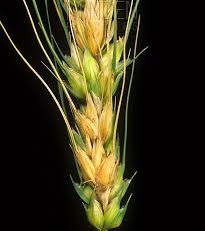Wheat scab: (55, 2, 137, 227)
